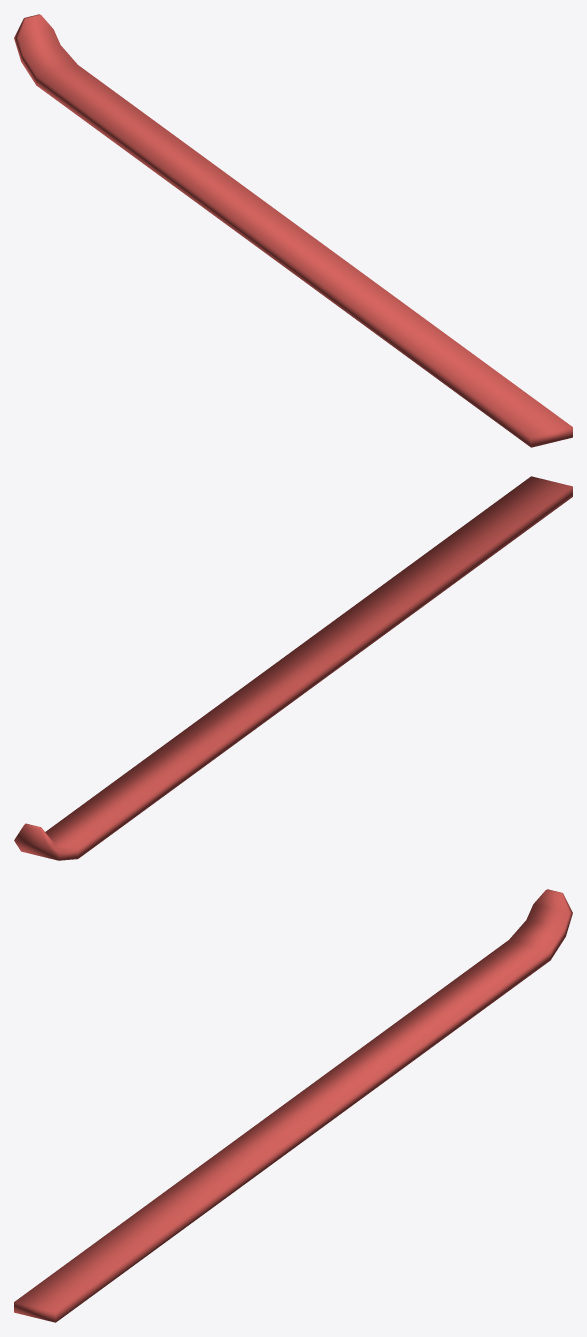
The model's file is skis.dae.
3 views of the same model, one above another, from view 1: azimuth 30°, elevation 25°; view 2: azimuth 150°, elevation 25°; view 3: azimuth 330°, elevation 25° (orthographic).
Visible parts, largest first — view 1: Cube; view 2: Cube; view 3: Cube.
Part boxes in pixels (left/top/right/bottom): Cube: left=14, top=14, right=572, bottom=447; Cube: left=14, top=476, right=572, bottom=860; Cube: left=14, top=889, right=572, bottom=1322.
Size of the model in its own units: 0.0803 by 1.73 by 0.0847.
